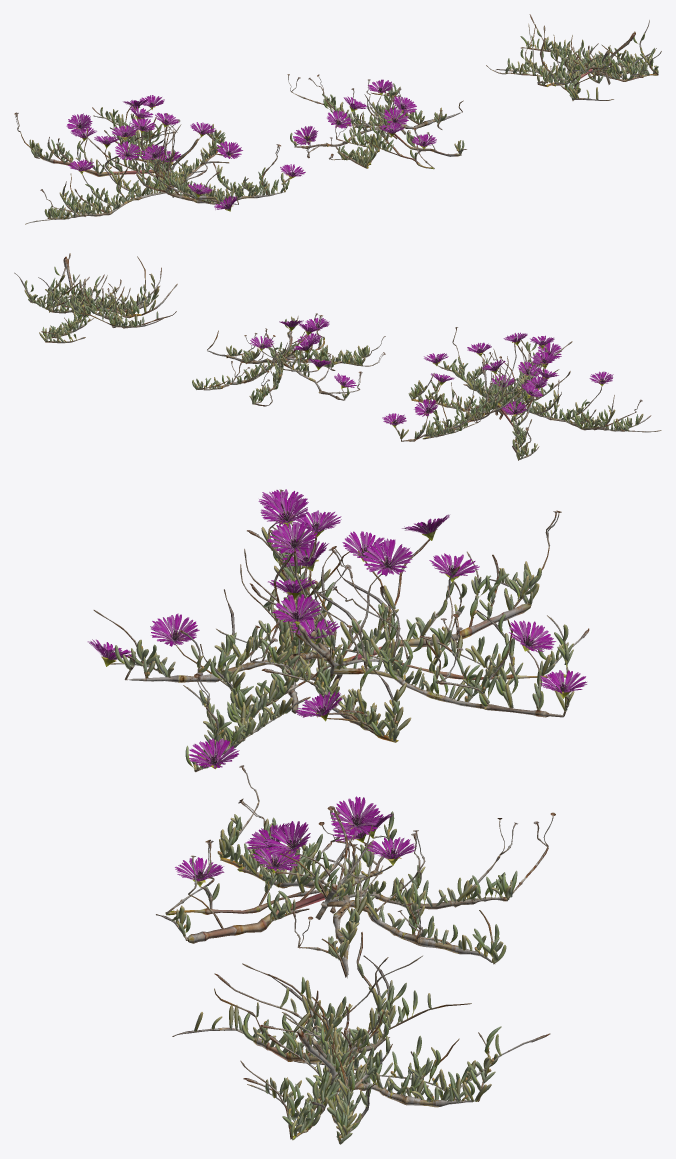
Rendered from leipoldtia_schultzei_2k.gltf.
3 renders of one model, top to bottom at view 1: azimuth 30°, elevation 25°; view 2: azimuth 150°, elevation 25°; view 3: azimuth 270°, elevation 25°, orthographic. The views are drawn at different scales.
Parts seen in each view (by area): view 1: leipoldtia_schultzei_Large_LOD0, leipoldtia_schultzei_Medium_LOD0, leipoldtia_schultzei_Small_LOD0; view 2: leipoldtia_schultzei_Large_LOD0, leipoldtia_schultzei_Medium_LOD0, leipoldtia_schultzei_Small_LOD0; view 3: leipoldtia_schultzei_Large_LOD0, leipoldtia_schultzei_Medium_LOD0, leipoldtia_schultzei_Small_LOD0.
Boxes of the visible parts, x1=… form: leipoldtia_schultzei_Large_LOD0: x1=14, y1=95, x2=305, y2=224; leipoldtia_schultzei_Medium_LOD0: x1=287, y1=74, x2=466, y2=169; leipoldtia_schultzei_Small_LOD0: x1=486, y1=14, x2=661, y2=100; leipoldtia_schultzei_Large_LOD0: x1=382, y1=327, x2=661, y2=460; leipoldtia_schultzei_Medium_LOD0: x1=192, y1=313, x2=385, y2=406; leipoldtia_schultzei_Small_LOD0: x1=14, y1=253, x2=177, y2=343; leipoldtia_schultzei_Large_LOD0: x1=87, y1=489, x2=589, y2=772; leipoldtia_schultzei_Medium_LOD0: x1=156, y1=765, x2=555, y2=978; leipoldtia_schultzei_Small_LOD0: x1=172, y1=932, x2=550, y2=1144.
Size of the model in its own units: 2.31 by 0.3171 by 0.8098.
Materials: 1 (1 with a texture image).
